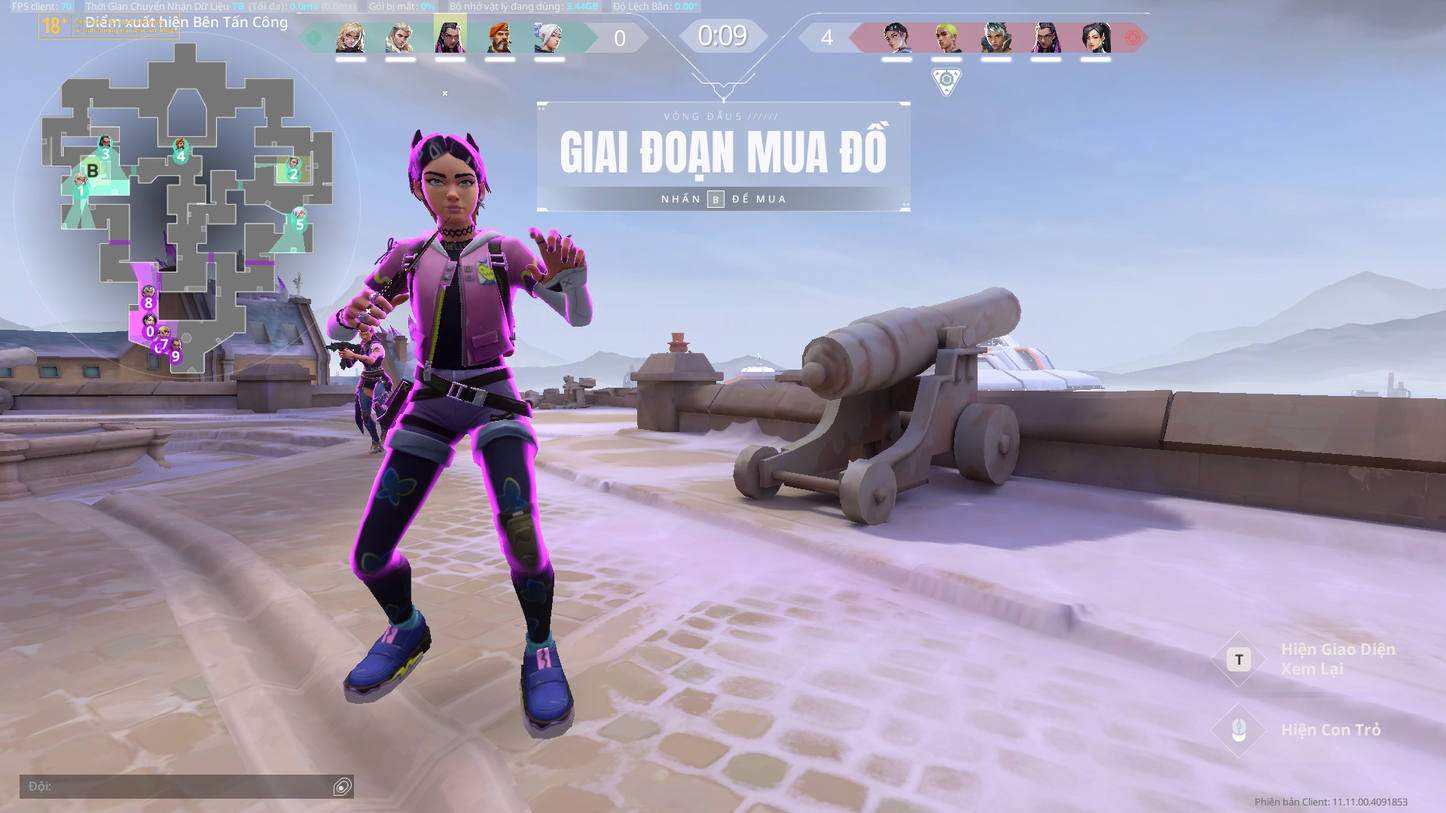body: (393, 226, 526, 376)
head: (404, 135, 487, 226)
